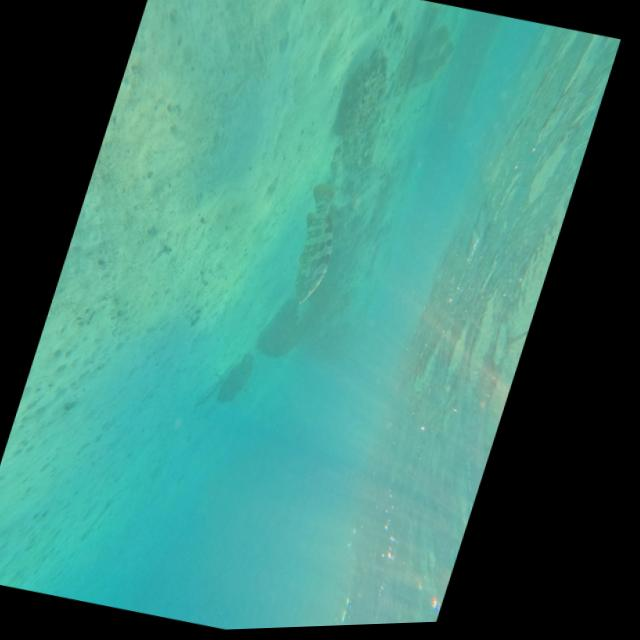Groupers: (276, 177, 353, 306)
